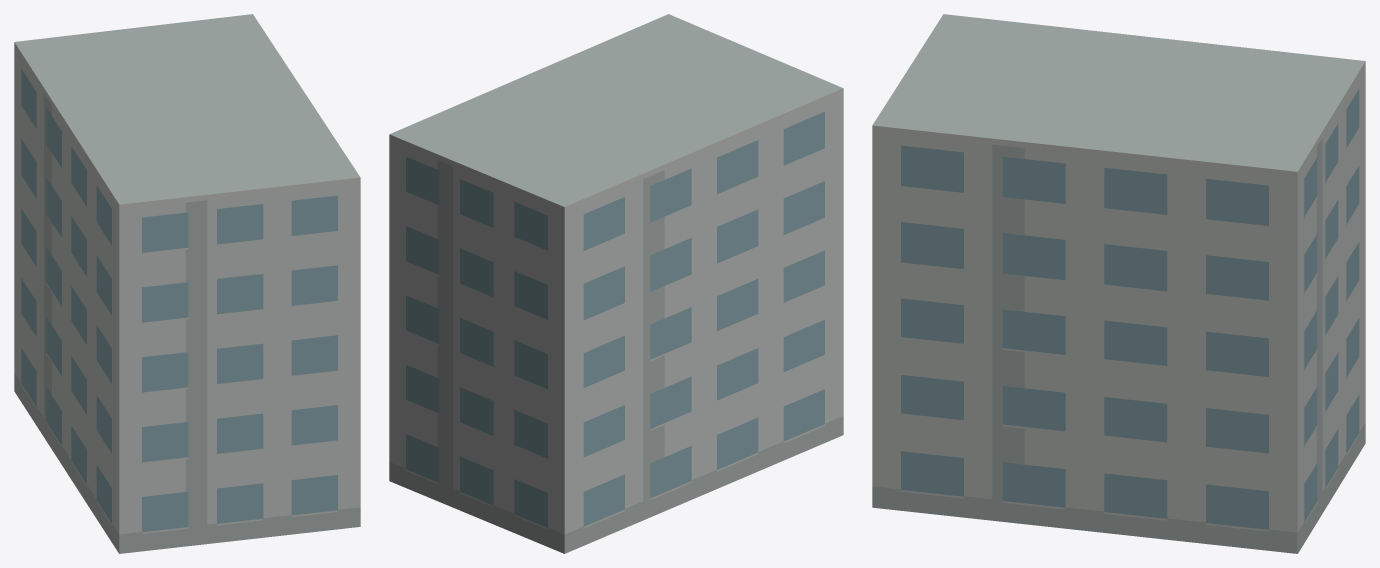
File: survey-upis-32758584.glb
The picture shows the model from 3 angles, left to right: view 1: azimuth 30°, elevation 25°; view 2: azimuth 150°, elevation 25°; view 3: azimuth 270°, elevation 25°; orthographic projection. The views are drawn at different scales.
Visible parts, largest first — view 1: survey-upis-32758584.tmp; view 2: survey-upis-32758584.tmp; view 3: survey-upis-32758584.tmp.
Part boxes in pixels (x1,y1,x2,y2): survey-upis-32758584.tmp: (14,14,360,553); survey-upis-32758584.tmp: (389,14,843,553); survey-upis-32758584.tmp: (872,14,1365,553).
Bounding box in the file's own units: 13.51 × 15.25 × 17.86.
